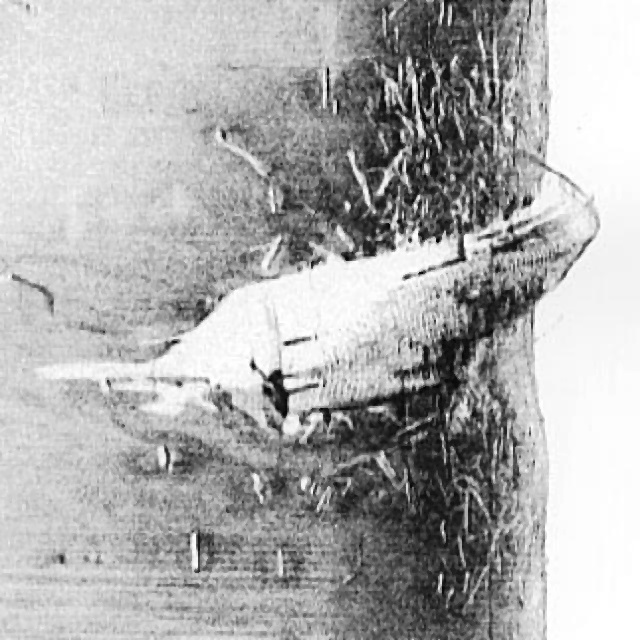Ship: (16, 141, 607, 463)
